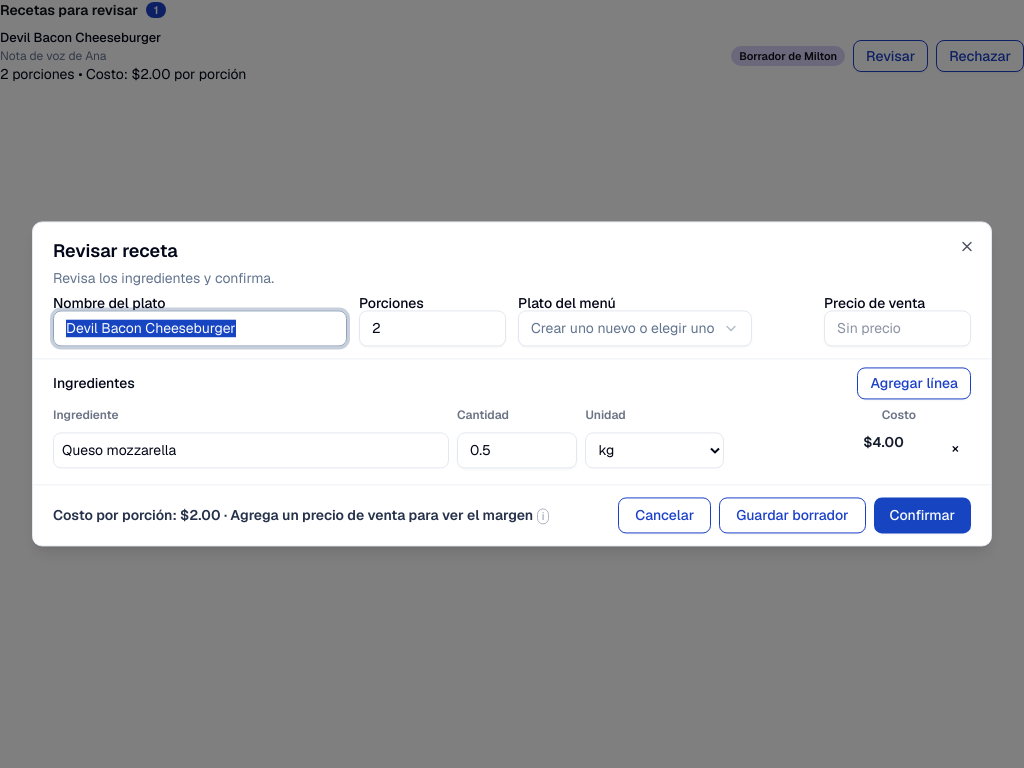
it: the footer is one honest line › inside the modal it is live: it follows the quantity
Expected: the element with test id "cost-footer" shows "Costo por porción: $2.00", [53, 507, 533, 525]
Replace the text in the number field named "Cantidad de la línea 1" with "1": (517, 451) [457, 433, 577, 469]
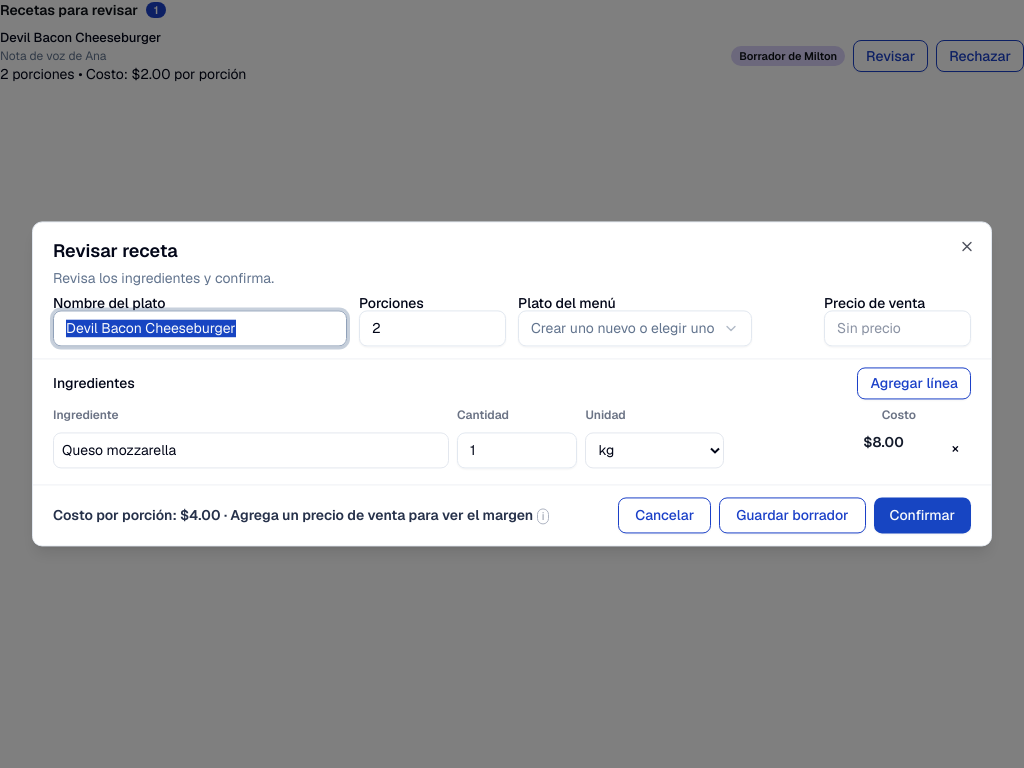
Expected: the element with test id "cost-footer" shows "Costo por porción: $4.00", [53, 507, 533, 525]
